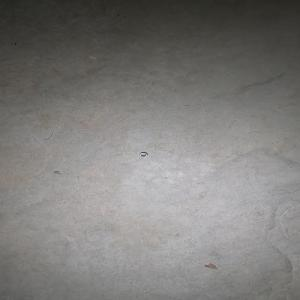Nut: (138, 151, 148, 157)
